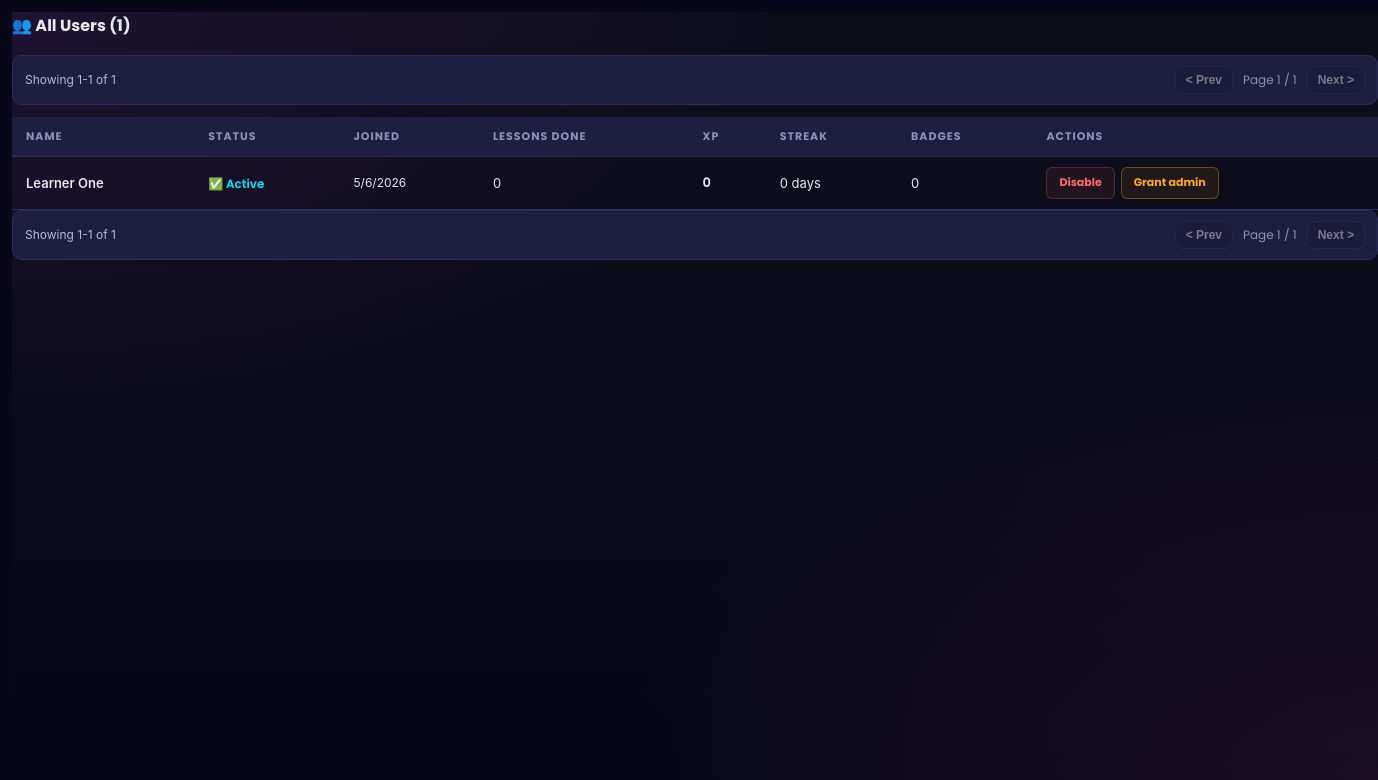
Test: AdminUsersTab › shows a role-specific error when admin role changes fail
This screenshot has width=1378, height=780.
What coordinates should you click on to do the following:
click the button with aria-label "grant admin access to learner one"
I would click on:
 (1170, 183)
Its box is [1121,167,1219,199].
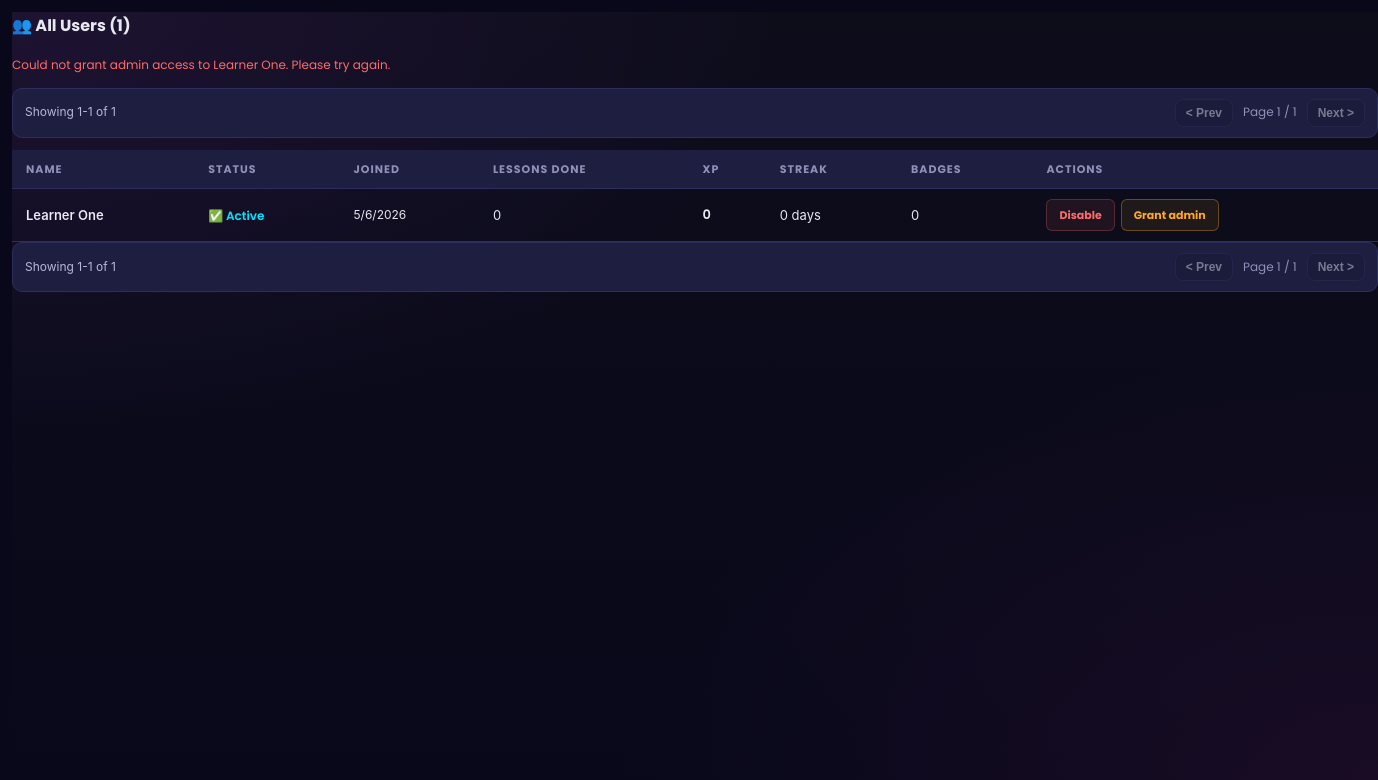
Now the message shows "Could not grant admin access to Learner One", box [12,56,390,73]
